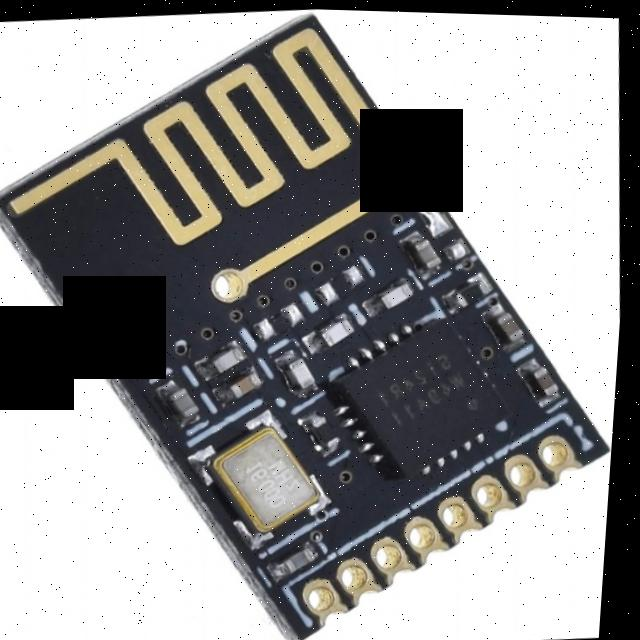IC: (327, 307, 519, 482)
capacitor 1V5: (396, 223, 447, 273), (493, 301, 536, 343), (526, 354, 568, 396), (282, 541, 329, 574), (285, 352, 320, 393), (172, 380, 205, 421), (211, 339, 249, 374), (376, 274, 417, 306), (323, 310, 359, 343), (232, 368, 267, 395)
clock Q1: (199, 418, 330, 537)
resistor IR1: (451, 270, 494, 309), (262, 303, 301, 338)
